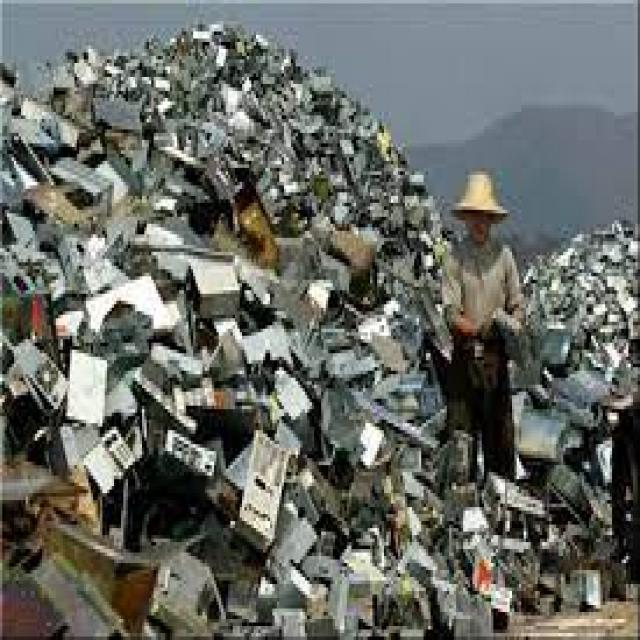hazard: (12, 55, 625, 615)
